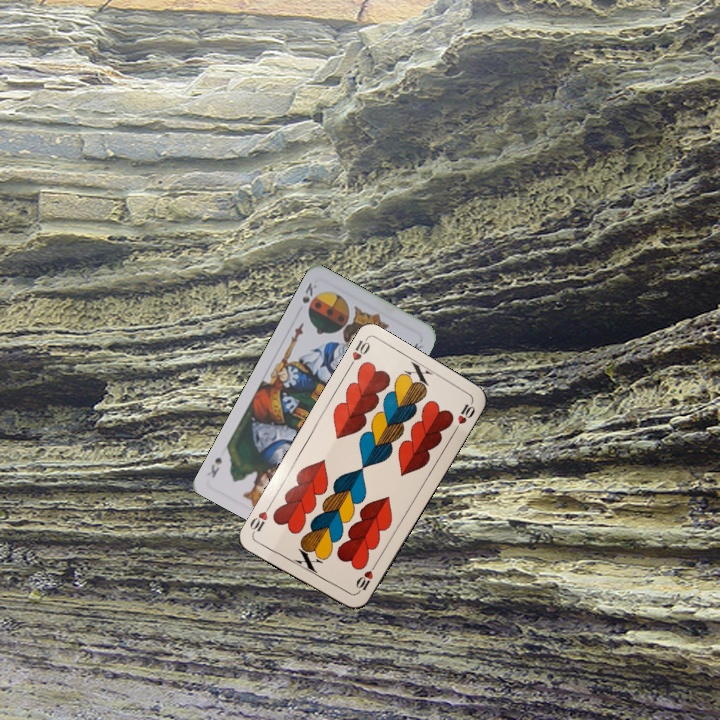H10: (343, 335, 373, 372), (352, 560, 378, 597)
SK: (298, 278, 320, 306)
